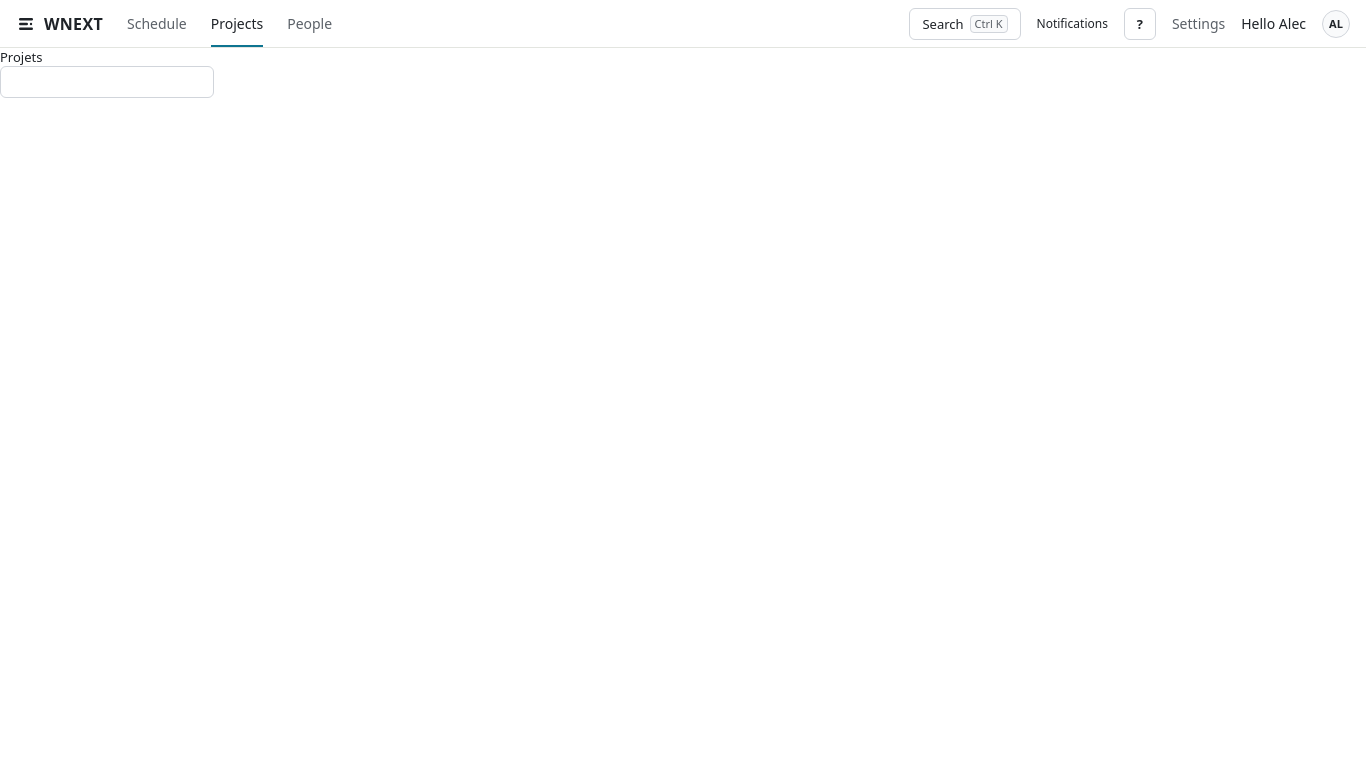
bouton et fenêtre d'aide (RT-064) › EN : titre et groupes traduits
The image size is (1366, 768).
What coordinates should you click on to do the following:
click the button named "Keyboard shortcuts"
I would click on:
 (1140, 24)
Its box is left=1124, top=8, right=1156, bottom=40.
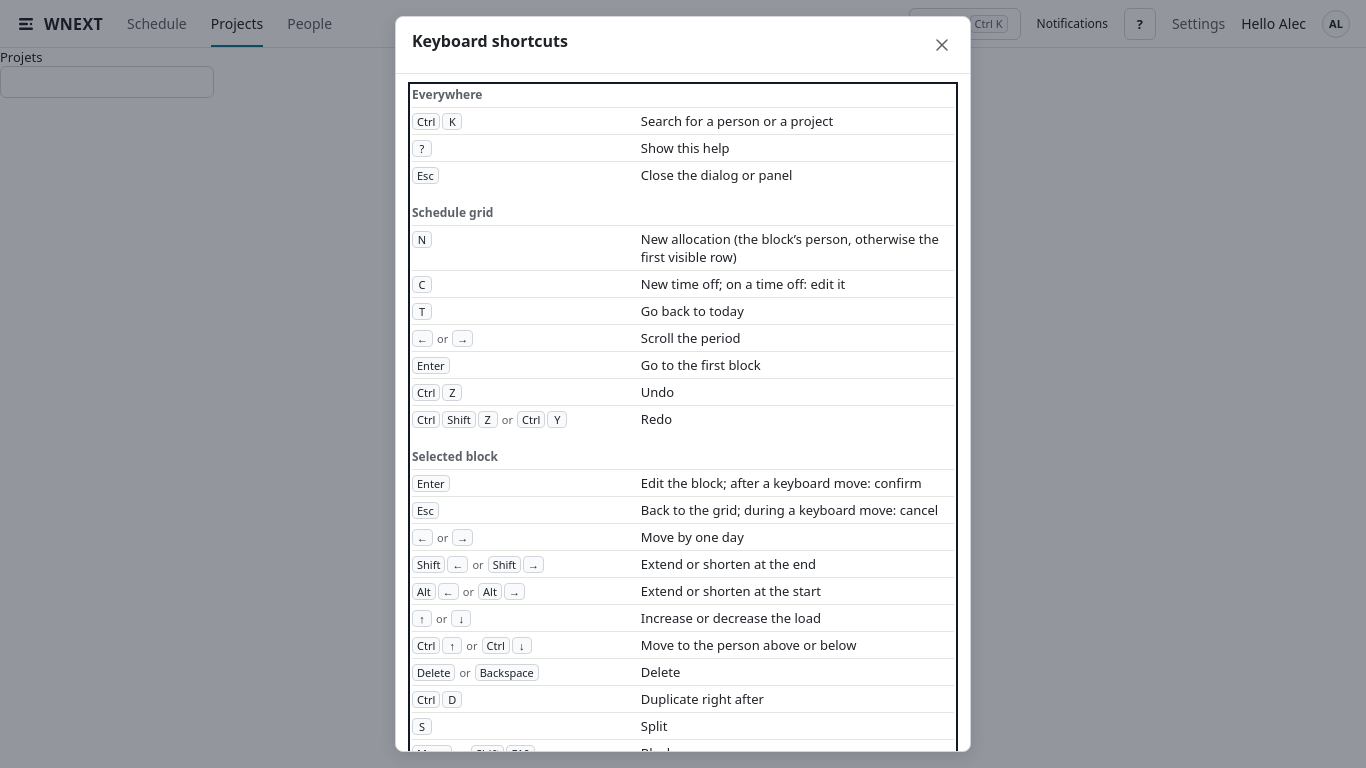
Expected: the heading "Keyboard shortcuts" is shown, left=412, top=29, right=568, bottom=53
Expected: the dialog shows "New allocation", left=641, top=230, right=939, bottom=266
